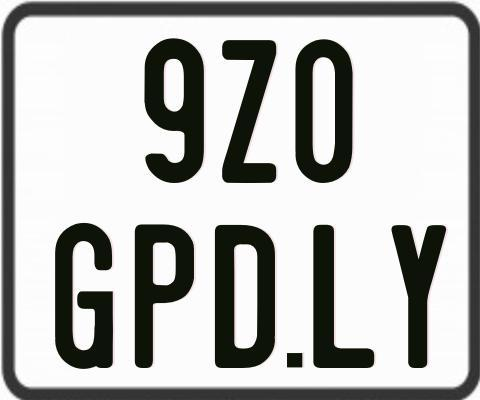0: (292, 37, 355, 182)
9: (141, 38, 203, 189)
D: (212, 224, 276, 371)
G: (53, 223, 117, 373)
L: (310, 222, 374, 367)
P: (135, 224, 200, 370)
Y: (392, 224, 452, 372)
Z: (219, 40, 279, 184)
